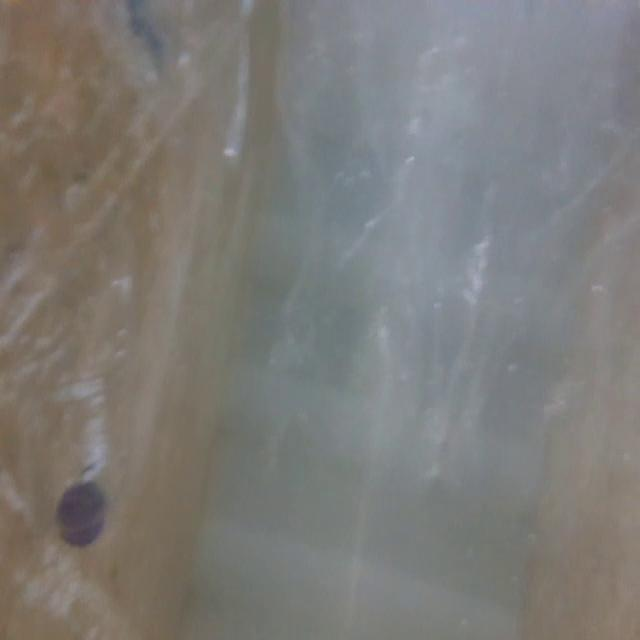plastic bags: (290, 0, 640, 555), (47, 0, 266, 172)
plastic bottle: (0, 179, 150, 567)
